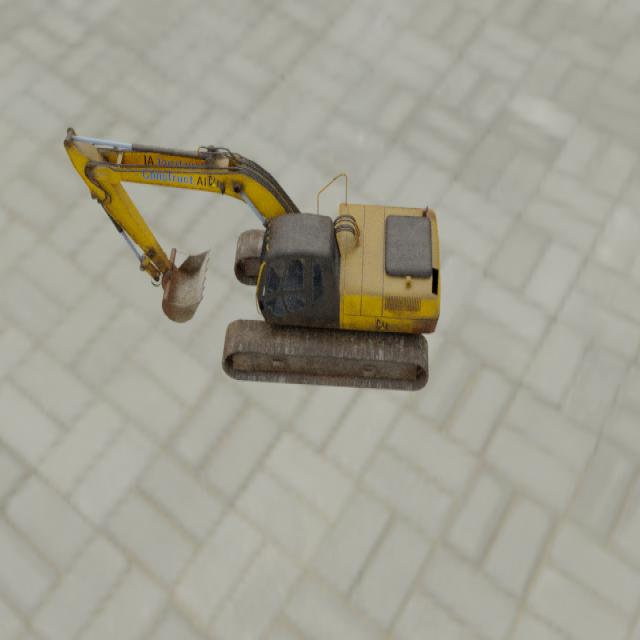excavator: (63, 125, 440, 391)
